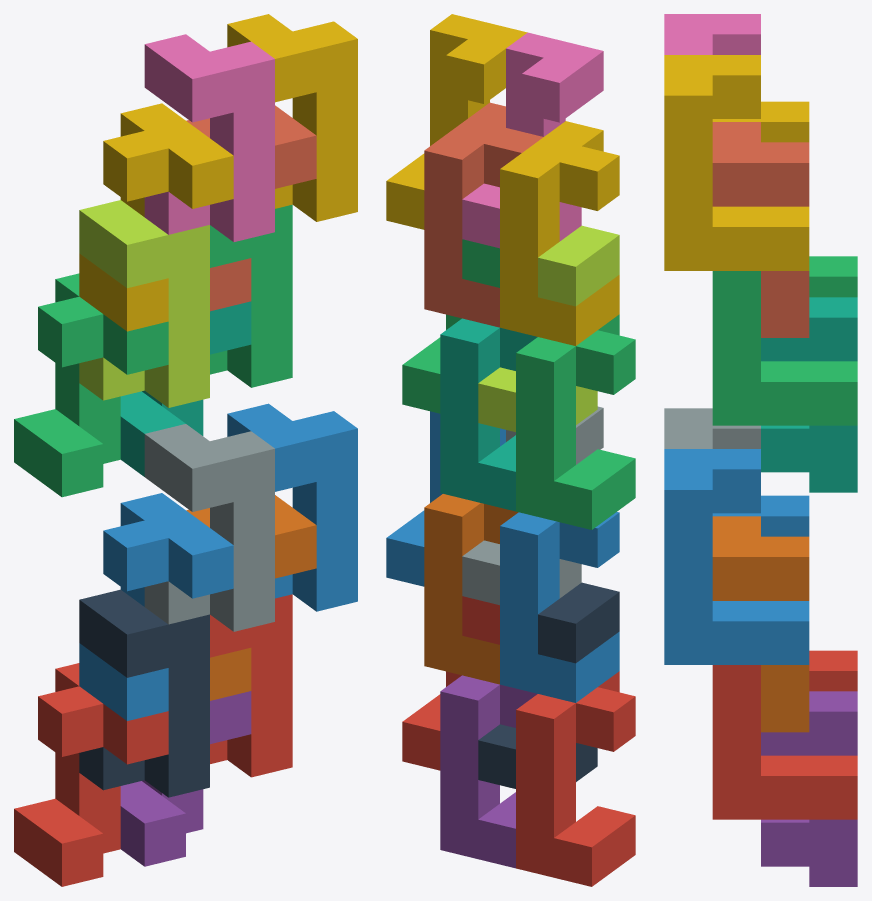
The model's file is tiling.obj.
The picture shows the model from 3 angles, left to right: view 1: azimuth 30°, elevation 25°; view 2: azimuth 150°, elevation 25°; view 3: azimuth 270°, elevation 25°; orthographic projection. The views are drawn at different scales.
Visible parts, largest first — view 1: copy_2_domain_4, copy_2_domain_2, copy_1_domain_1, copy_1_domain_3, copy_2_domain_3, copy_2_domain_1, copy_2_domain_6, copy_2_domain_8, copy_1_domain_4, copy_1_domain_2, copy_2_domain_5, copy_2_domain_7 (+4 smaller); view 2: copy_1_domain_3, copy_1_domain_1, copy_1_domain_4, copy_1_domain_2, copy_1_domain_8, copy_1_domain_5, copy_1_domain_7, copy_2_domain_4, copy_1_domain_6, copy_2_domain_8, copy_2_domain_3, copy_2_domain_1 (+4 smaller); view 3: copy_2_domain_8, copy_2_domain_6, copy_2_domain_5, copy_2_domain_7, copy_1_domain_6, copy_1_domain_8, copy_1_domain_5, copy_1_domain_7, copy_2_domain_4, copy_2_domain_2, copy_1_domain_2, copy_1_domain_4 (+2 smaller).
Boxes of the visible parts, x1,y1,x2,y2 form: copy_2_domain_4: (144, 34, 274, 241); copy_2_domain_2: (144, 424, 274, 631); copy_1_domain_1: (14, 663, 168, 886); copy_1_domain_3: (14, 273, 168, 497); copy_2_domain_3: (79, 200, 209, 407); copy_2_domain_1: (79, 589, 209, 797); copy_2_domain_6: (227, 403, 357, 611); copy_2_domain_8: (227, 14, 357, 221); copy_1_domain_4: (79, 103, 233, 331); copy_1_domain_2: (79, 493, 233, 720); copy_2_domain_5: (210, 594, 292, 777); copy_2_domain_7: (210, 204, 292, 387); copy_1_domain_3: (516, 314, 635, 529); copy_1_domain_1: (516, 671, 635, 886); copy_1_domain_4: (500, 121, 619, 345); copy_1_domain_2: (500, 512, 619, 702); copy_1_domain_8: (424, 102, 543, 327); copy_1_domain_5: (440, 675, 537, 868); copy_1_domain_7: (440, 318, 537, 511); copy_2_domain_4: (462, 32, 603, 248); copy_1_domain_6: (424, 494, 518, 684); copy_2_domain_8: (386, 14, 527, 229); copy_2_domain_3: (478, 225, 619, 431); copy_2_domain_1: (478, 582, 619, 788); copy_2_domain_8: (664, 55, 809, 270); copy_2_domain_6: (664, 449, 809, 664); copy_2_domain_5: (712, 665, 857, 819); copy_2_domain_7: (712, 271, 857, 425); copy_1_domain_6: (712, 516, 809, 732); copy_1_domain_8: (712, 122, 809, 337); copy_1_domain_5: (761, 691, 857, 886); copy_1_domain_7: (761, 297, 857, 492); copy_2_domain_4: (664, 14, 760, 54); copy_2_domain_2: (664, 408, 760, 448); copy_1_domain_2: (712, 495, 809, 536); copy_1_domain_4: (712, 101, 809, 142).
Bounding box in the file's own units: 6 × 19 × 4.
